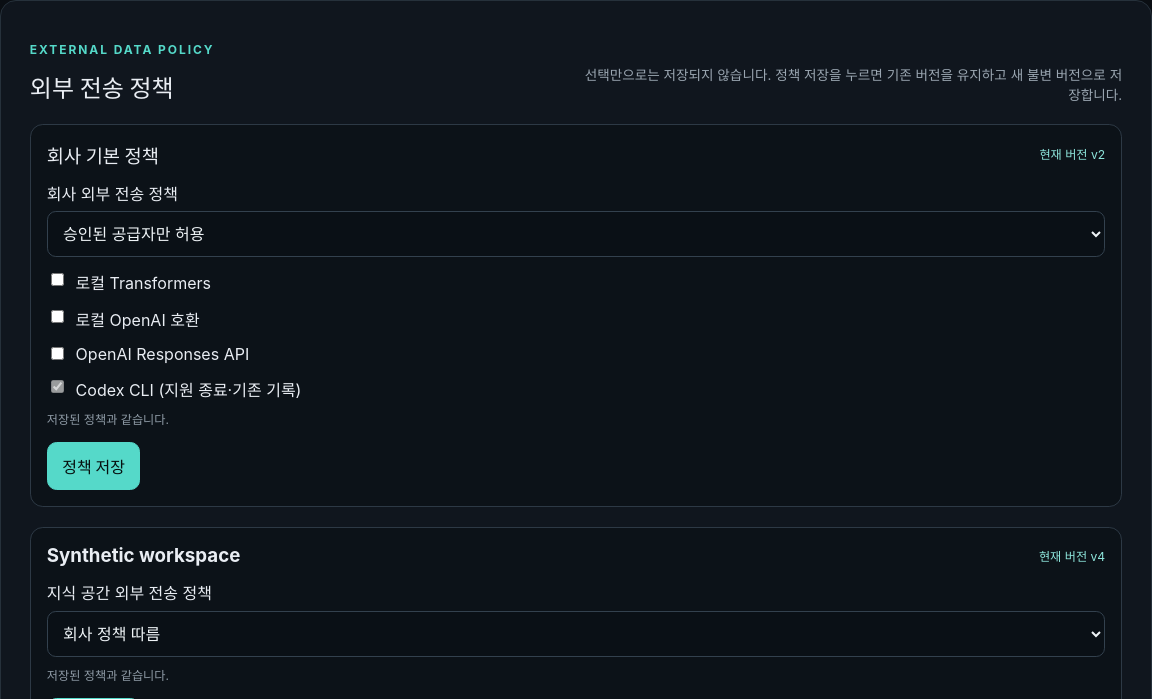
Test: DataPolicyPanel › keeps company edits unsaved until explicit successful save and clears stale feedback
Expected: the button "정책 저장" below "Codex CLI (지원 종료·기존 기록)" is disabled, [47,442,140,490]
Select "외부 전송 차단" in the dropdown labelled "회사 외부 전송 정책" at (576, 234), box [47,211,1105,257]
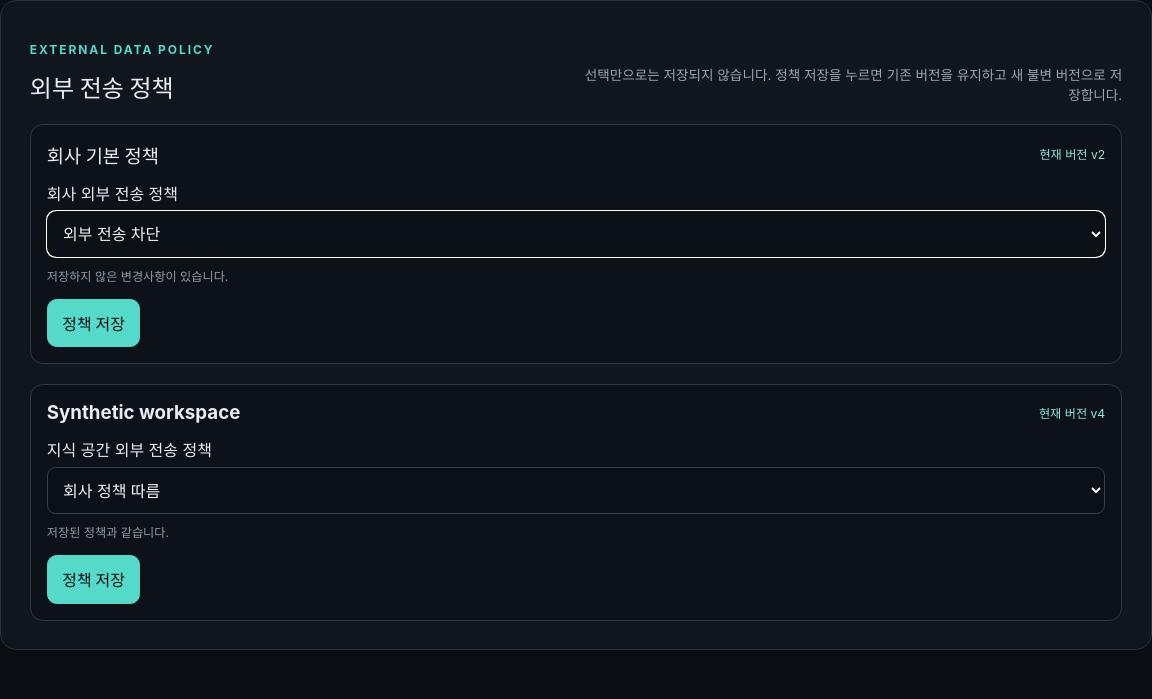
Result: the message "저장하지 않은 변경사항이 있습니다." is shown at [47,269,228,284]
Click the button "정책 저장" below "저장하지 않은 변경사항이 있습니다." at (94, 323), box [47,299,140,347]
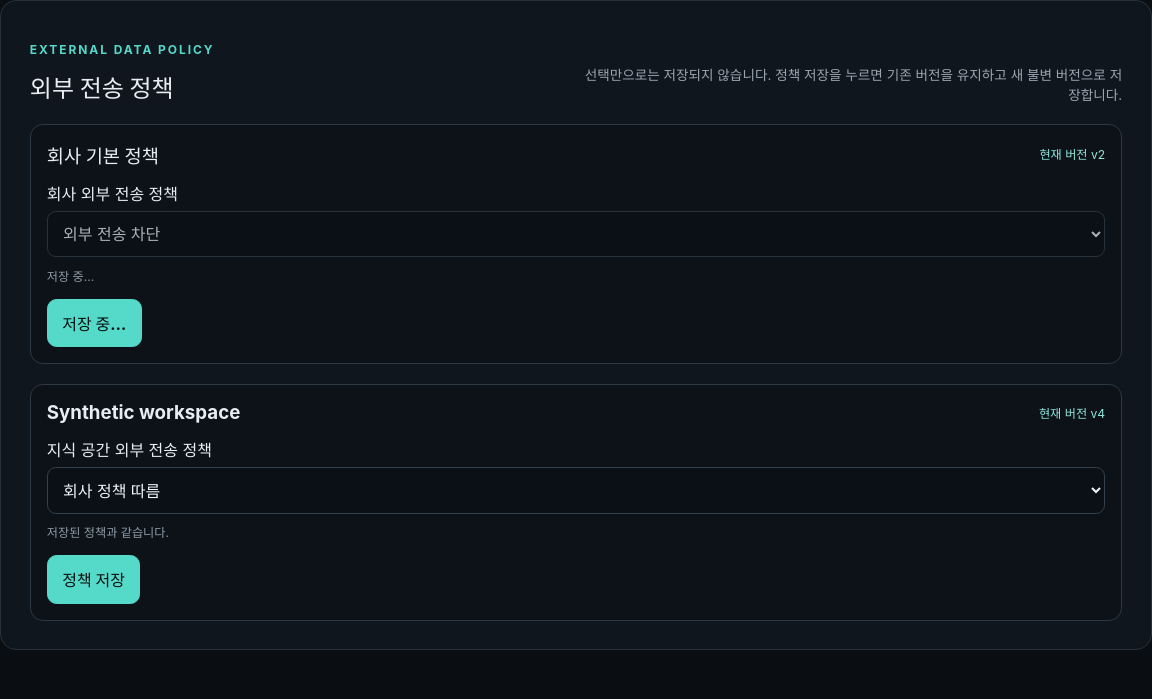
Expected: the dropdown labelled "회사 외부 전송 정책" is disabled, [47,211,1105,257]
Result: the message "저장 중…" is shown at [47,269,94,284]
Click the button "저장 중…" at (94, 323), box [47,299,142,347]
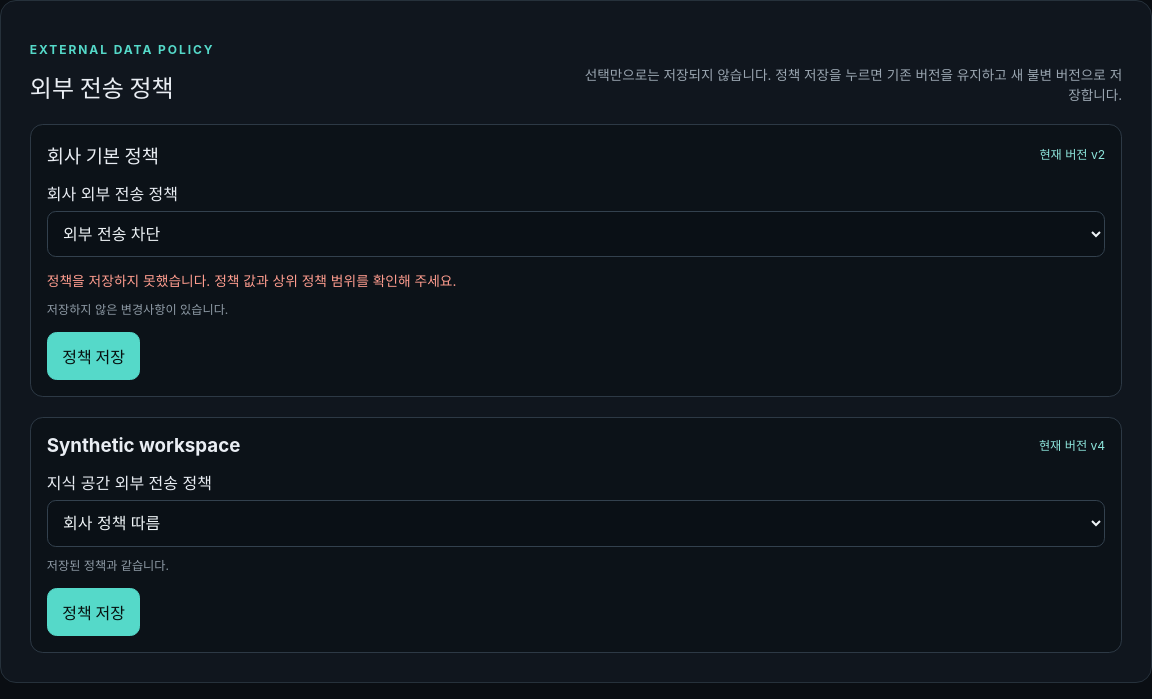
Expected: the text "현재 버전 v2" is shown, [1039,145,1105,163]
Result: the message "정책을 저장하지 못했습니다. 정책 값과 상위 정책 범위를 확인해 주세요." is shown at [47,273,456,289]
Result: the button "정책 저장" below "저장하지 않은 변경사항이 있습니다." is enabled
Click the button "정책 저장" below "저장하지 않은 변경사항이 있습니다." at (94, 356), box [47,332,140,380]
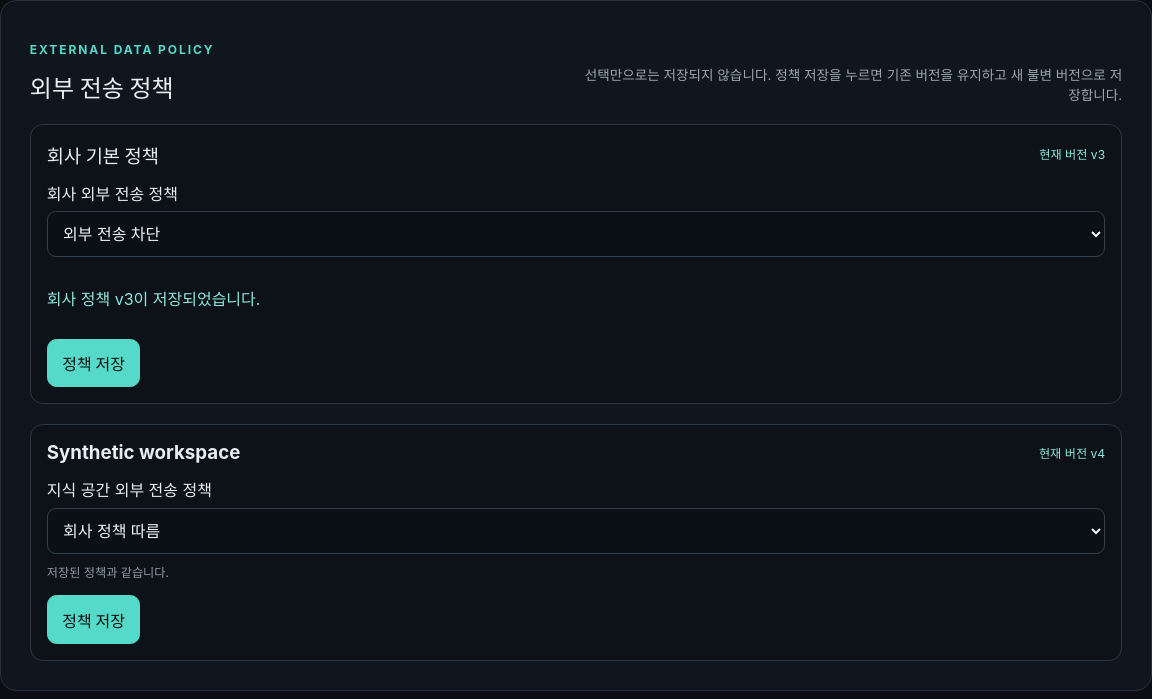
Result: the message "회사 정책 v3이 저장되었습니다." is shown at [47,289,260,309]
Result: the button "정책 저장" below "회사 정책 v3이 저장되었습니다." is disabled at [47,339,140,387]
Select "승인된 공급자만 허용" in the dropdown labelled "회사 외부 전송 정책" at (576, 234), box [47,211,1105,257]
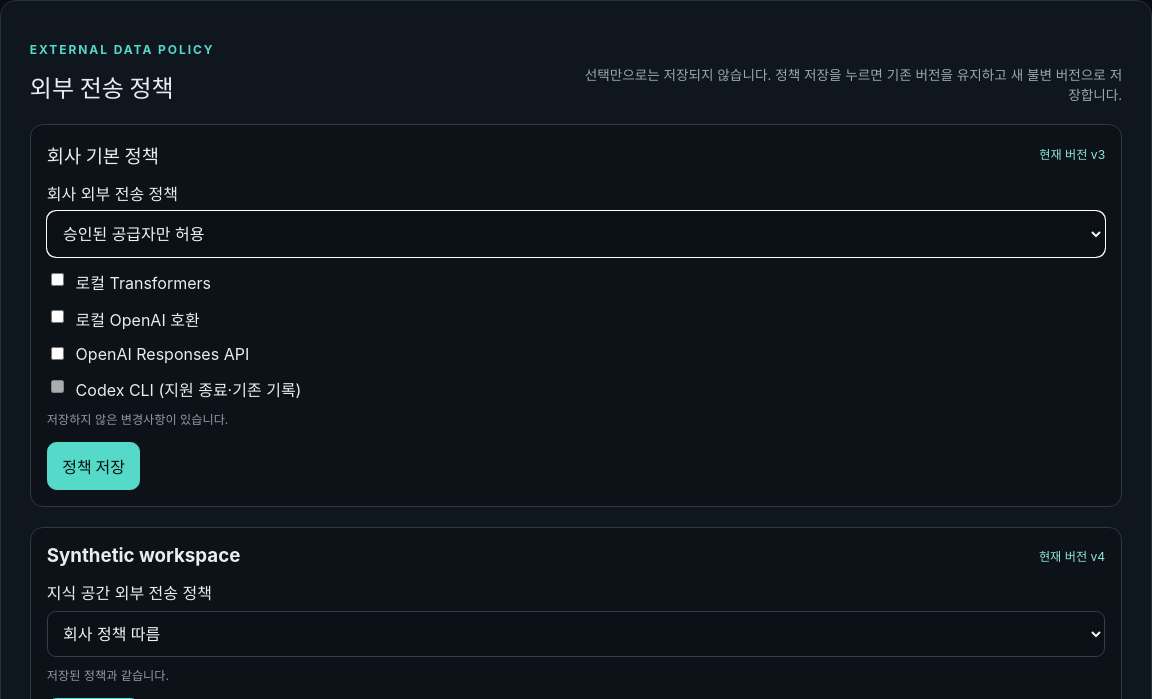
Expected: the message "정책을 저장하지 못했습니다. 정책 값과 상위 정책 범위를 확인해 주세요." is not shown
Result: the message "저장하지 않은 변경사항이 있습니다." is shown at [47,412,228,427]
Result: the text "저장되었습니다" is gone
